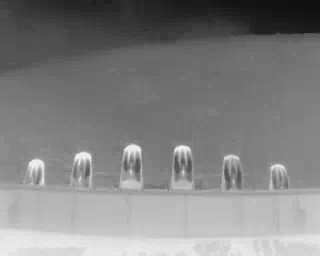claw: (120, 142, 145, 187), (172, 143, 195, 187), (221, 154, 245, 190), (71, 150, 93, 186), (22, 158, 44, 185), (268, 163, 289, 188)
